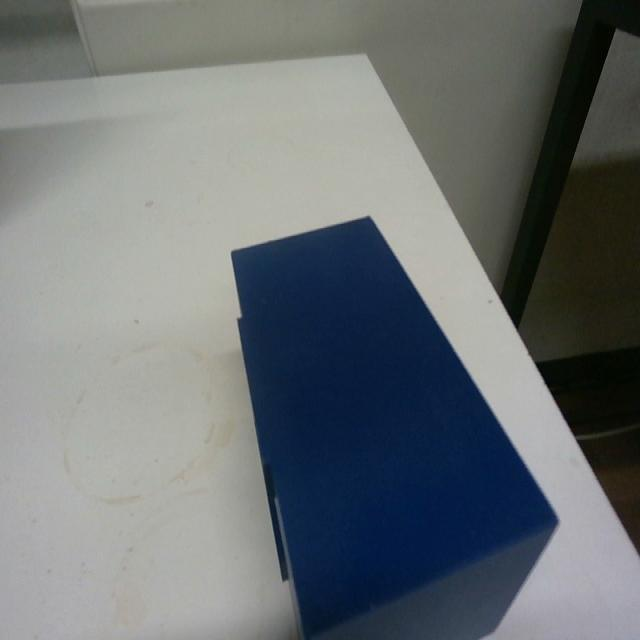Blue Cuboid: (228, 211, 560, 637)
